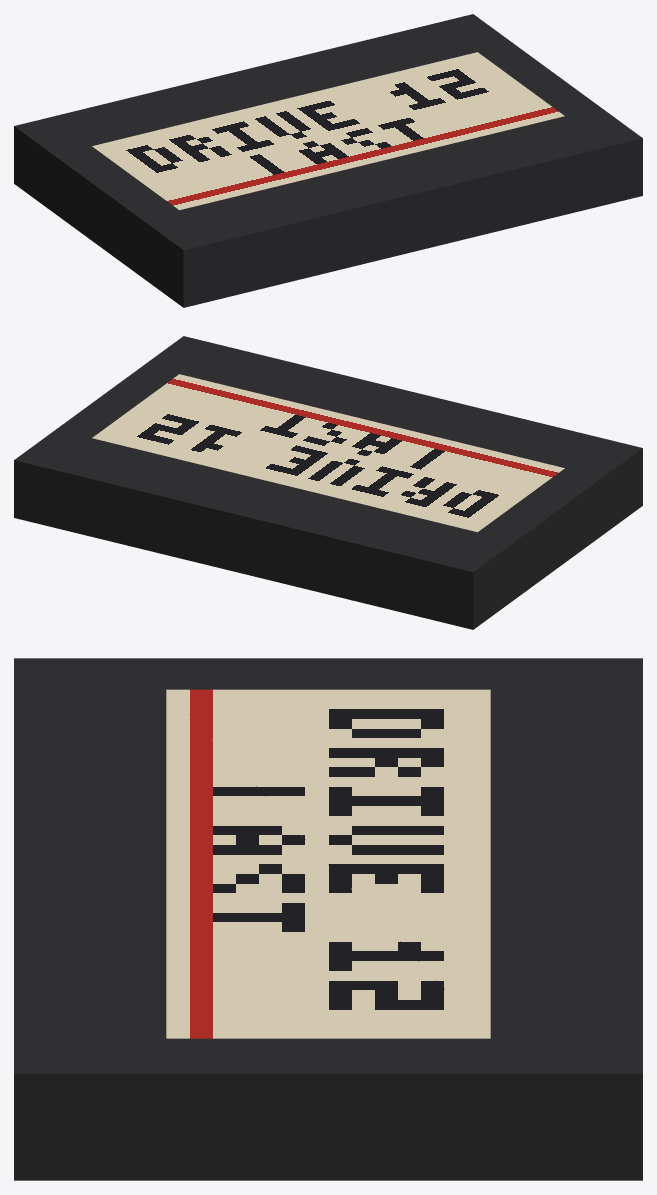
Rendered from tape_12.glb.
3 renders of one model, top to bottom at view 1: azimuth 30°, elevation 25°; view 2: azimuth 150°, elevation 25°; view 3: azimuth 270°, elevation 25°, orthographic. The views are drawn at different scales.
Visible parts, largest first — view 1: tape_12; view 2: tape_12; view 3: tape_12.
Part boxes in pixels (box(x1,y1,x2,y2)): tape_12: box(14, 14, 642, 307); tape_12: box(14, 336, 642, 629); tape_12: box(14, 658, 642, 1180).
Size of the model in its own units: 0.1 by 0.0122 by 0.064.
2 materials, 1 textured.
